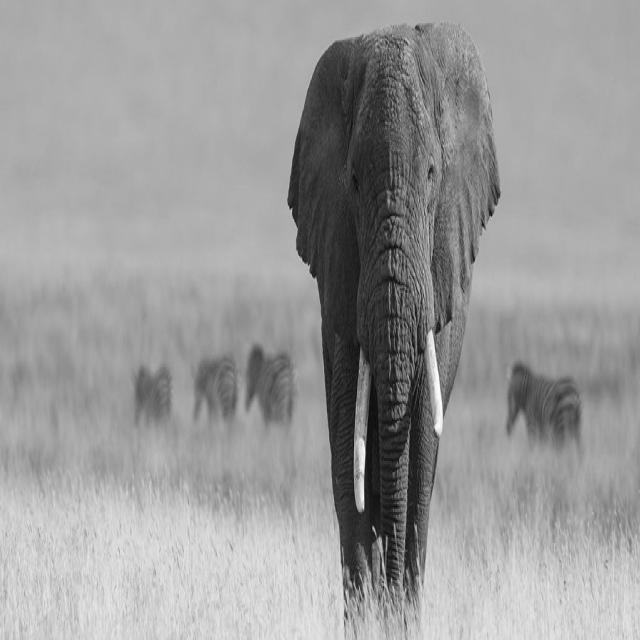Elephant: (286, 20, 501, 629)
